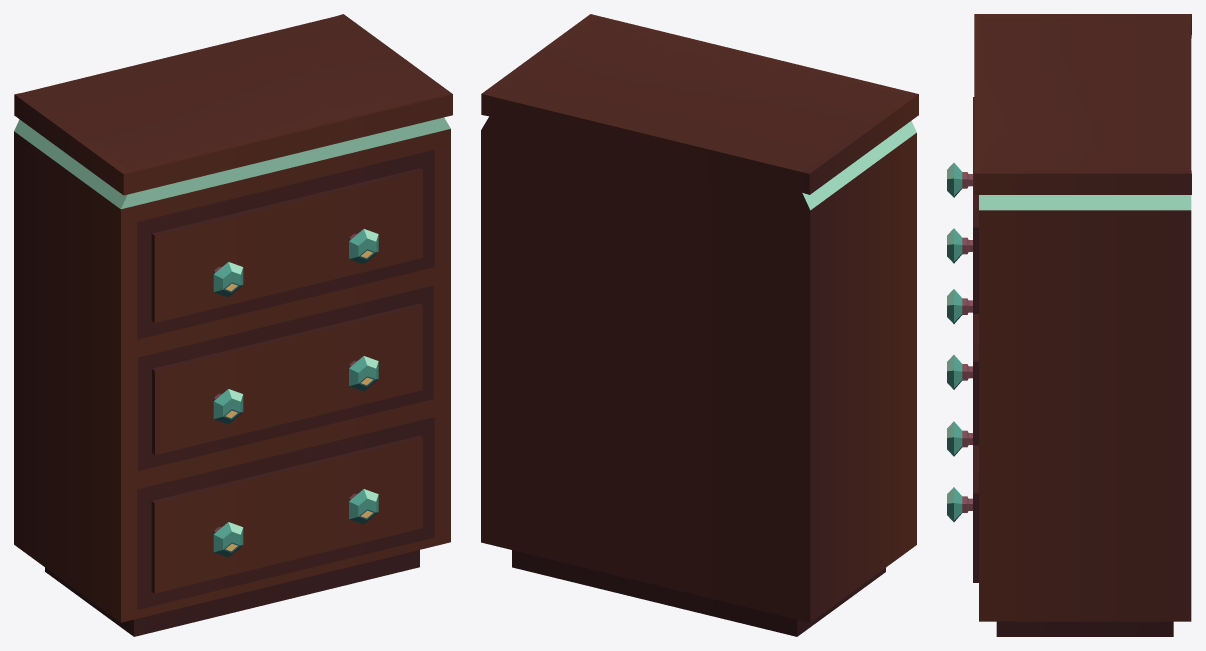
The model's file is Furniture_Dresser02.fbx.
The picture shows the model from 3 angles, left to right: view 1: azimuth 30°, elevation 25°; view 2: azimuth 150°, elevation 25°; view 3: azimuth 270°, elevation 25°; orthographic projection.
Parts seen in each view (by area): view 1: Cube.340; view 2: Cube.340; view 3: Cube.340.
Part boxes in pixels (x1,y1,x2,y2): Cube.340: (14,14,452,636); Cube.340: (481,14,918,636); Cube.340: (947,14,1191,636).
Size of the model in its own units: 38.01 by 52.38 by 24.52.
